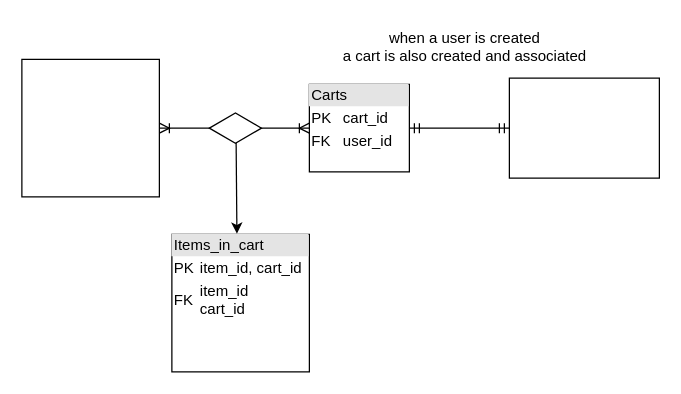
The diagram is 681 pixels wide and 394 high, and some of its shapes have lost their labels. Each missing label, with the centre of its shape:
Items PK item_id item_name item_desc item_price item_image: the point at 90,127
Users PK user_id user_name user_password: the point at 583,127
